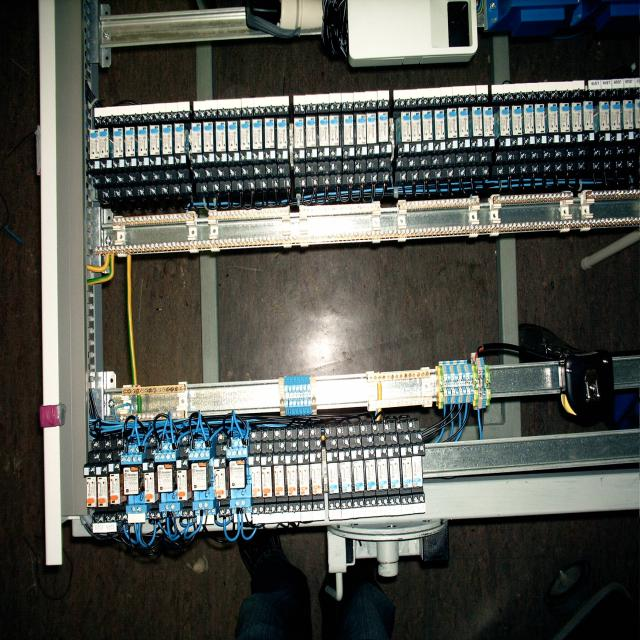Relais: (190, 444, 216, 512), (126, 443, 147, 520), (228, 444, 252, 508), (156, 441, 176, 517), (215, 468, 229, 500), (273, 465, 286, 497), (327, 463, 340, 494), (364, 459, 377, 489), (144, 472, 156, 503), (177, 470, 189, 501), (352, 462, 364, 493), (251, 467, 262, 500), (162, 124, 174, 154), (299, 464, 310, 496), (216, 121, 227, 152), (306, 116, 317, 147), (343, 114, 354, 145), (86, 477, 97, 508), (191, 123, 202, 153), (203, 122, 214, 152), (287, 466, 298, 496), (622, 101, 634, 128), (97, 476, 107, 508), (262, 466, 272, 498), (113, 128, 124, 157), (447, 109, 458, 138), (472, 107, 483, 136), (265, 118, 275, 149), (319, 115, 329, 146), (500, 106, 510, 137), (312, 464, 322, 495), (90, 129, 100, 159), (99, 128, 109, 158), (125, 127, 135, 157), (138, 126, 148, 156), (150, 124, 160, 154), (228, 121, 238, 151), (240, 120, 250, 150), (277, 119, 287, 149), (378, 112, 388, 142), (434, 110, 444, 140), (512, 105, 522, 135), (600, 101, 610, 130), (548, 104, 558, 133), (252, 120, 262, 149), (401, 112, 411, 141), (524, 105, 534, 134), (110, 475, 120, 504), (378, 458, 387, 490), (174, 124, 184, 152), (584, 102, 594, 130), (560, 103, 570, 131), (548, 104, 558, 132), (422, 112, 432, 140), (483, 108, 493, 136), (412, 458, 422, 486), (459, 107, 468, 138), (295, 118, 304, 148), (329, 116, 338, 146), (357, 114, 366, 144), (367, 113, 376, 143), (411, 112, 420, 142), (341, 462, 350, 492), (390, 458, 399, 488), (573, 103, 582, 132), (611, 102, 620, 130), (402, 457, 410, 488), (536, 105, 543, 134), (635, 100, 640, 128)
Schaltkasten: (46, 7, 640, 564)
